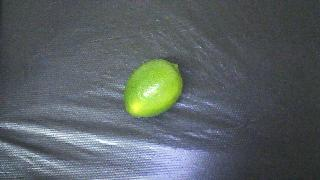LOCAL: (124, 59, 183, 117)
